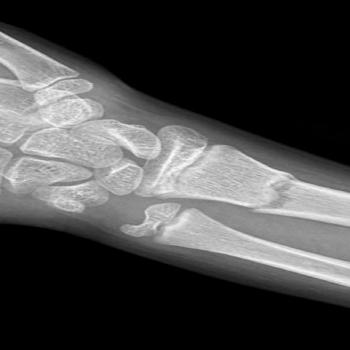Fracture: (243, 164, 302, 220)
